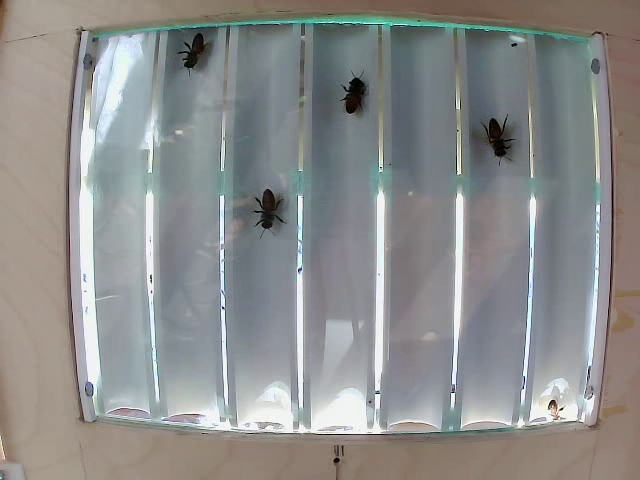bee: (252, 178, 295, 238), (478, 114, 512, 166), (337, 74, 372, 122), (189, 40, 226, 79)
